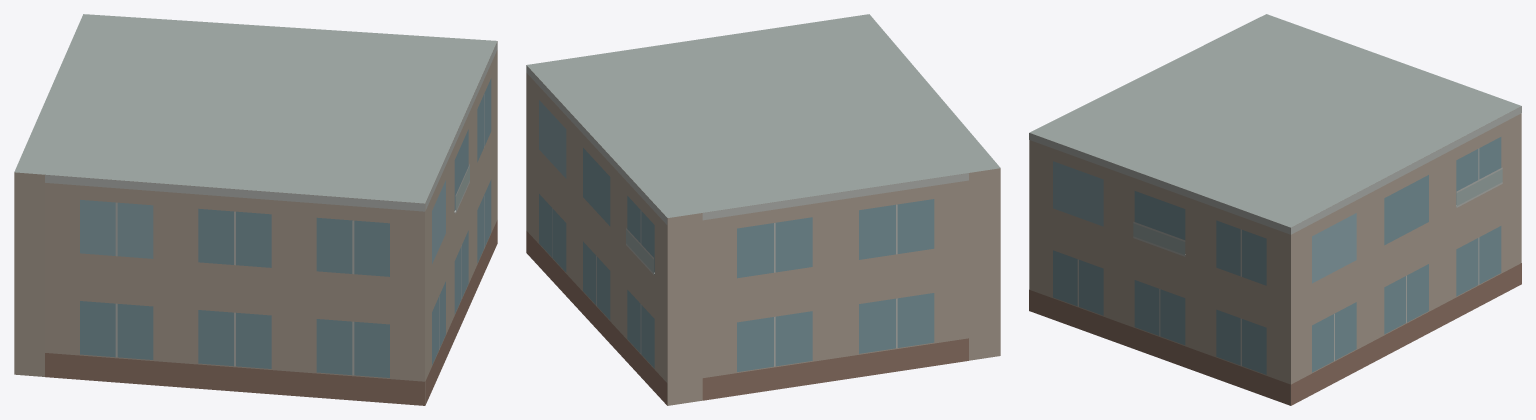
File: survey-upis-32661773.glb
The picture shows the model from 3 angles, left to right: view 1: azimuth 30°, elevation 25°; view 2: azimuth 150°, elevation 25°; view 3: azimuth 270°, elevation 25°; orthographic projection. The views are drawn at different scales.
Parts seen in each view (by area): view 1: survey-upis-32661773.tmp; view 2: survey-upis-32661773.tmp; view 3: survey-upis-32661773.tmp.
Part boxes in pixels (<box>): survey-upis-32661773.tmp: <box>14,14,497,405</box>; survey-upis-32661773.tmp: <box>526,14,1000,405</box>; survey-upis-32661773.tmp: <box>1029,14,1521,405</box>.
Bounding box in the file's own units: 15.69 × 6.1 × 15.29.
